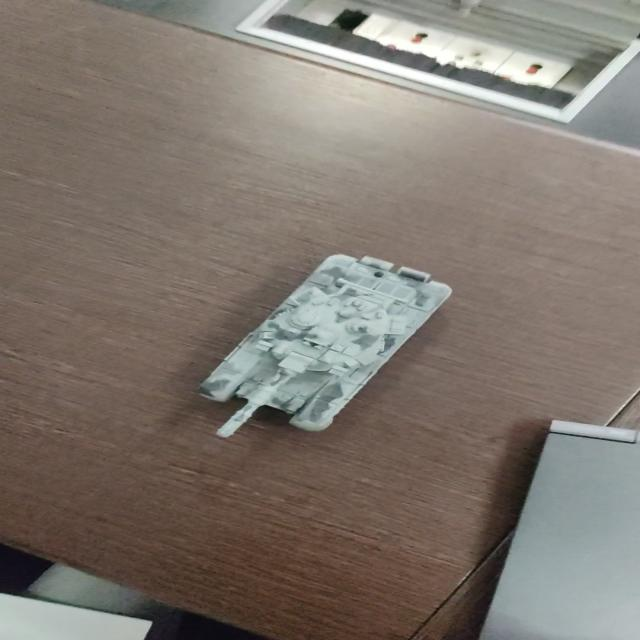tank: (188, 245, 463, 442)
